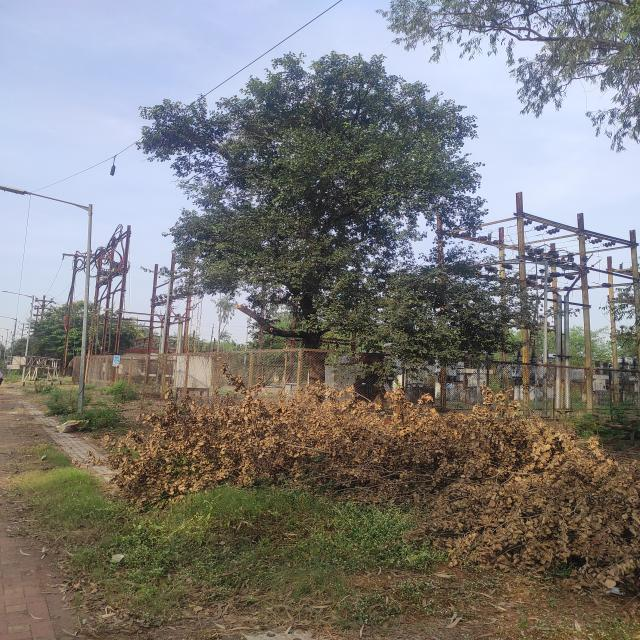Devakanchan tree: (176, 60, 446, 344)
